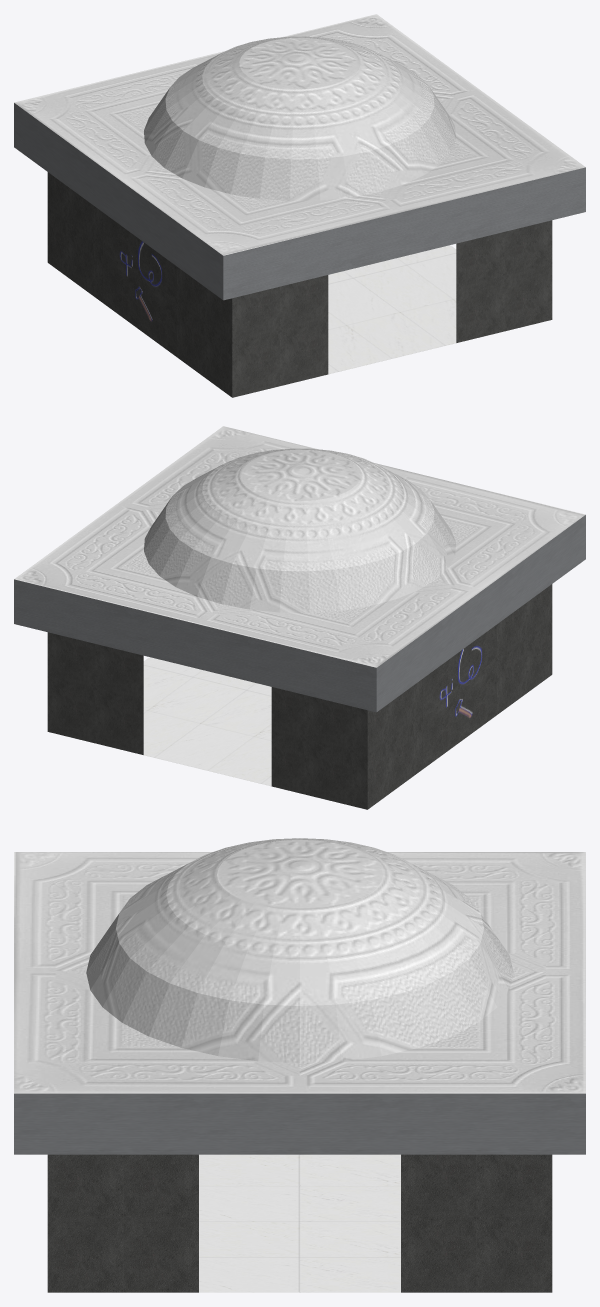
Rendered from hall.gltf.
The picture shows the model from 3 angles, top to bottom: view 1: azimuth 30°, elevation 25°; view 2: azimuth 150°, elevation 25°; view 3: azimuth 270°, elevation 25°; orthographic projection. The views are drawn at different scales.
Visible parts, largest first — view 1: Plafond, Mur et sol; view 2: Plafond, Mur et sol; view 3: Plafond, Mur et sol.
Boxes of the visible parts, x1,y1,x2,y2 form: Plafond: (14,14,585,300); Mur et sol: (47,172,552,397); Plafond: (14,426,585,712); Mur et sol: (47,584,552,809); Plafond: (14,838,585,1154); Mur et sol: (47,1154,552,1292).
Bounding box in the file's own units: 17 × 10.5 × 17.
6 materials, 6 textured.
